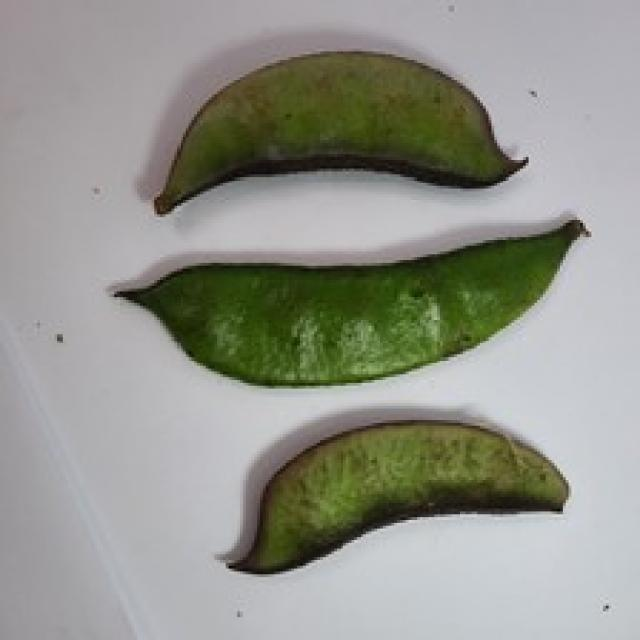Bean: (109, 214, 588, 386), (152, 46, 528, 214), (223, 417, 568, 574)
